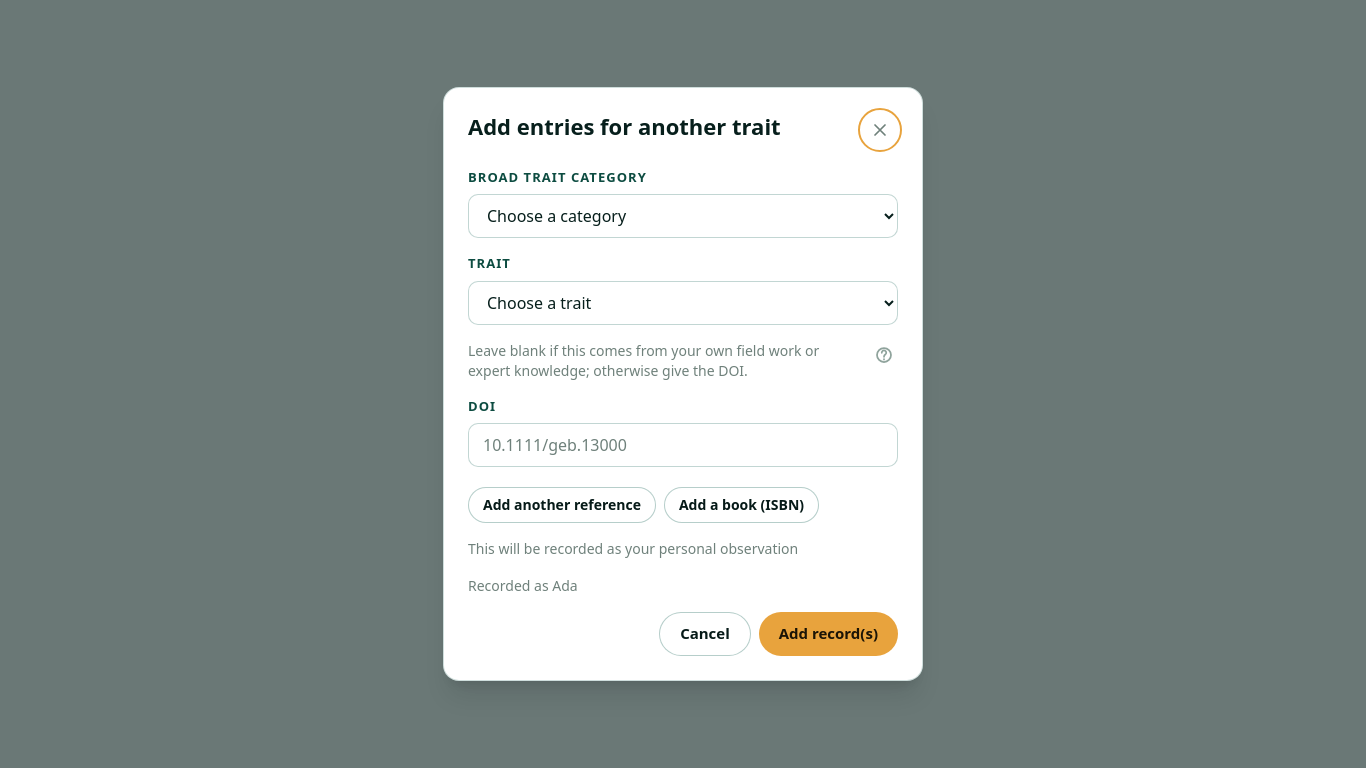
RFC-70 R1 AddEntriesDialog submission › RFC-13 R6 asks for the category, the trait and the value before sending anything
Click the button "Add record(s)".
click(828, 634)  # box [759, 612, 898, 656]
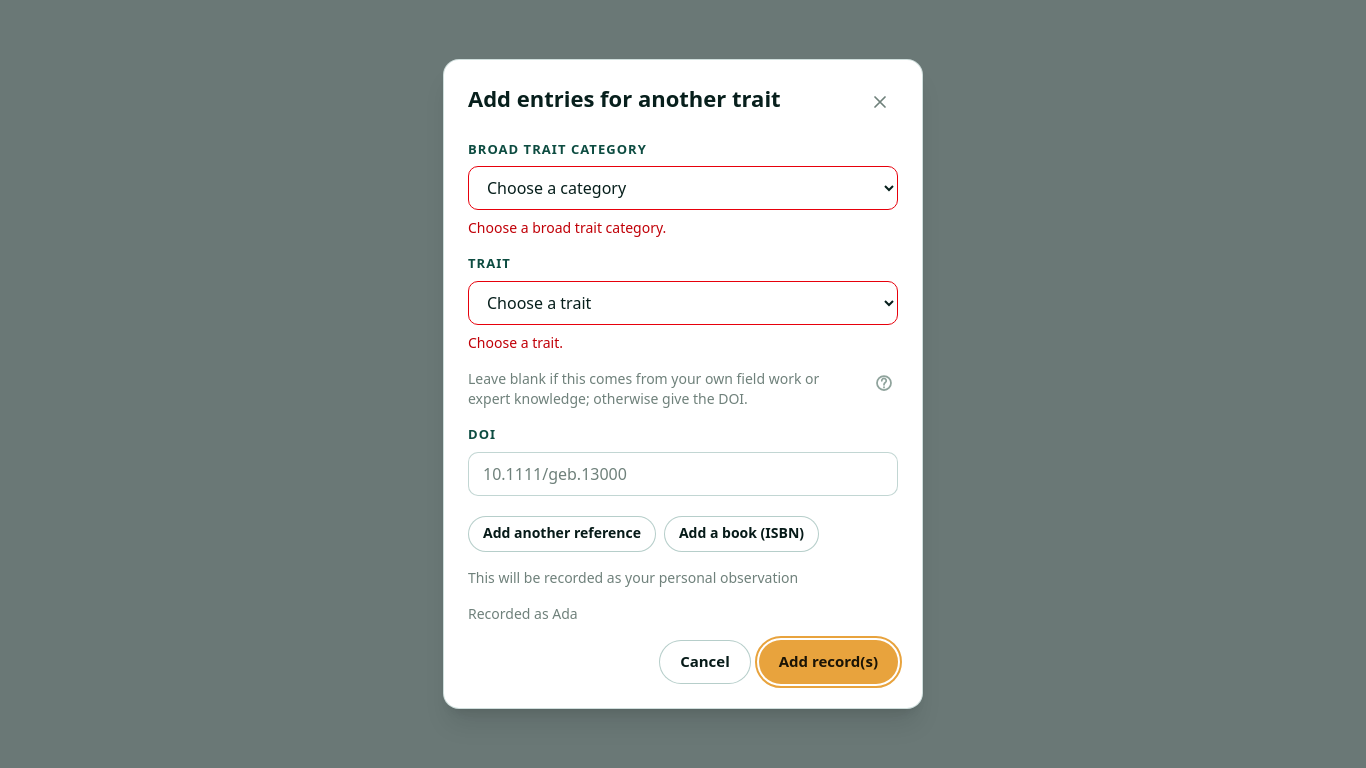
Check: the text "Choose a broad trait category." is shown, box [468, 218, 666, 237]
Check: the text "Choose a trait." is shown, box [468, 332, 563, 352]
